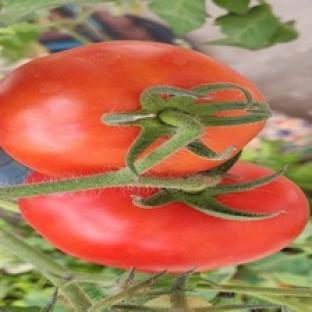Tomato: (0, 41, 263, 176), (20, 177, 309, 272)
